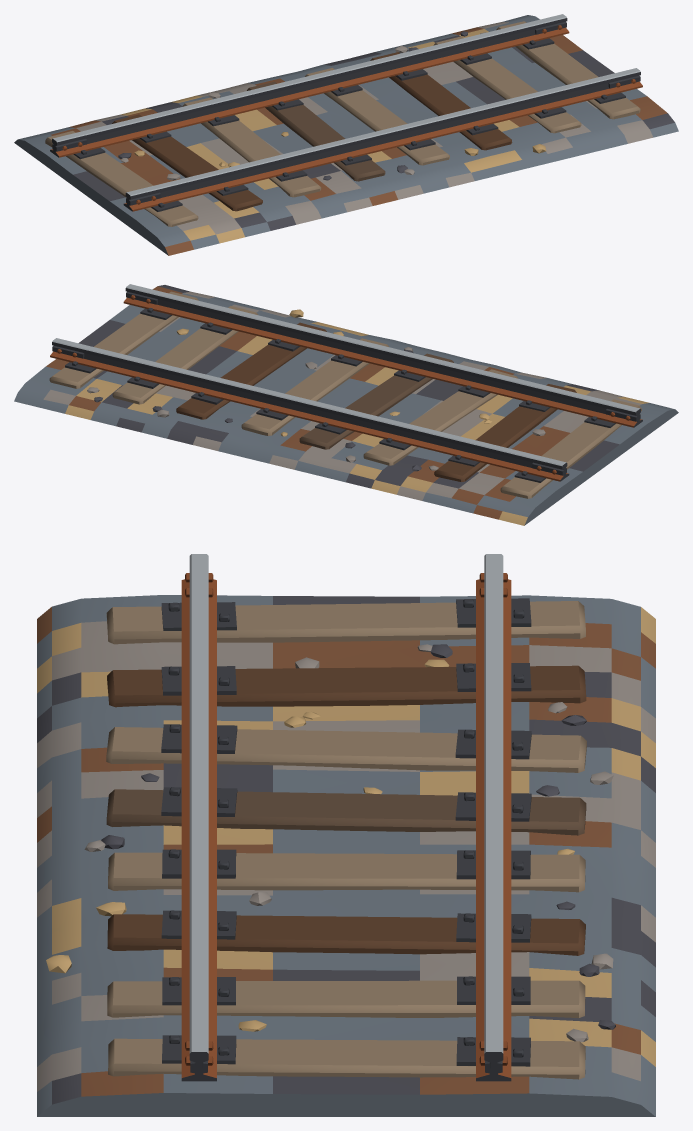
The model's file is deco_rail_straight.fbx.
3 renders of one model, top to bottom at view 1: azimuth 30°, elevation 25°; view 2: azimuth 150°, elevation 25°; view 3: azimuth 270°, elevation 25°, orthographic. The views are drawn at different scales.
Visible parts, largest first — view 1: Rail_Straight_Ballast, Rail_Straight_Rails, Rail_Straight_Sleepers, Rail_Straight_Spikes; view 2: Rail_Straight_Ballast, Rail_Straight_Rails, Rail_Straight_Sleepers, Rail_Straight_Spikes; view 3: Rail_Straight_Ballast, Rail_Straight_Sleepers, Rail_Straight_Rails, Rail_Straight_Spikes.
Part boxes in pixels (x1,y1,x2,y2): Rail_Straight_Ballast: [14, 15, 678, 255]; Rail_Straight_Rails: [50, 14, 642, 211]; Rail_Straight_Sleepers: [45, 21, 640, 226]; Rail_Straight_Spikes: [62, 25, 635, 211]; Rail_Straight_Ballast: [14, 285, 678, 525]; Rail_Straight_Rails: [50, 284, 642, 481]; Rail_Straight_Sleepers: [49, 291, 641, 498]; Rail_Straight_Spikes: [57, 295, 630, 482]; Rail_Straight_Ballast: [37, 595, 655, 1116]; Rail_Straight_Sleepers: [106, 601, 586, 1079]; Rail_Straight_Rails: [181, 554, 511, 1081]; Rail_Straight_Spikes: [161, 573, 531, 1066].
Bounding box in the file's own units: 400 × 25.54 × 210.
